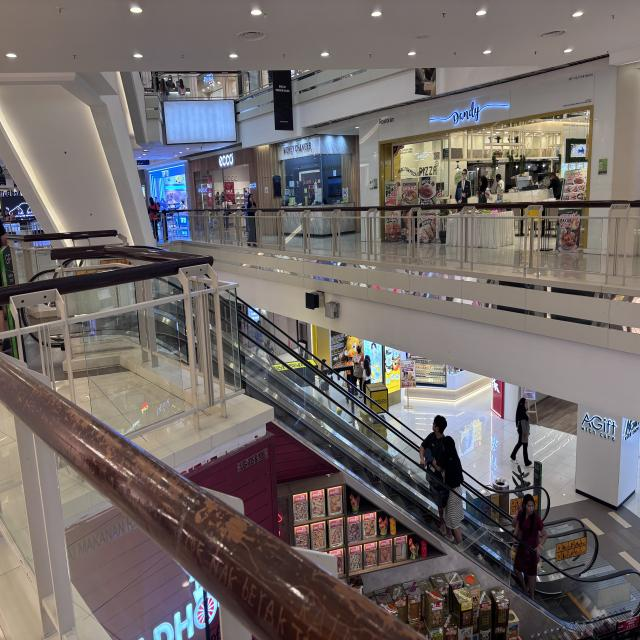escalator: (11, 241, 640, 632)
